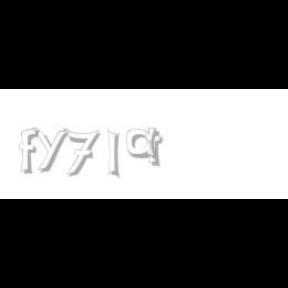7: (64, 128, 100, 178)
I: (108, 128, 120, 180)
a: (126, 128, 163, 160)
f: (19, 128, 43, 174)
t: (145, 128, 167, 168)
y: (32, 128, 72, 172)
